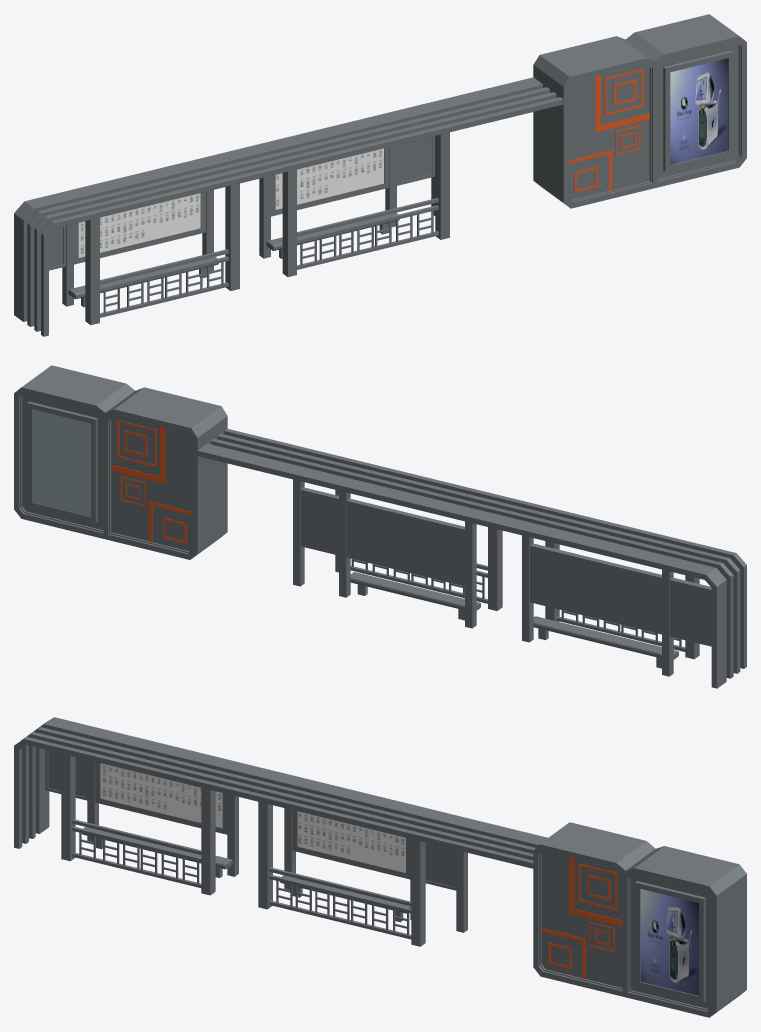
File: station1.gltf
The picture shows the model from 3 angles, top to bottom: view 1: azimuth 30°, elevation 25°; view 2: azimuth 150°, elevation 25°; view 3: azimuth 330°, elevation 25°; orthographic projection.
Parts seen in each view (by area): view 1: 站台02; view 2: 站台02; view 3: 站台02.
Part boxes in pixels (x1,y1,x2,y2): 站台02: [14, 14, 746, 336]; 站台02: [14, 365, 746, 688]; 站台02: [14, 717, 746, 1017].
Bounding box in the file's own units: 21.43 × 3.85 × 1.61.
Materials: 6 (2 with a texture image).
